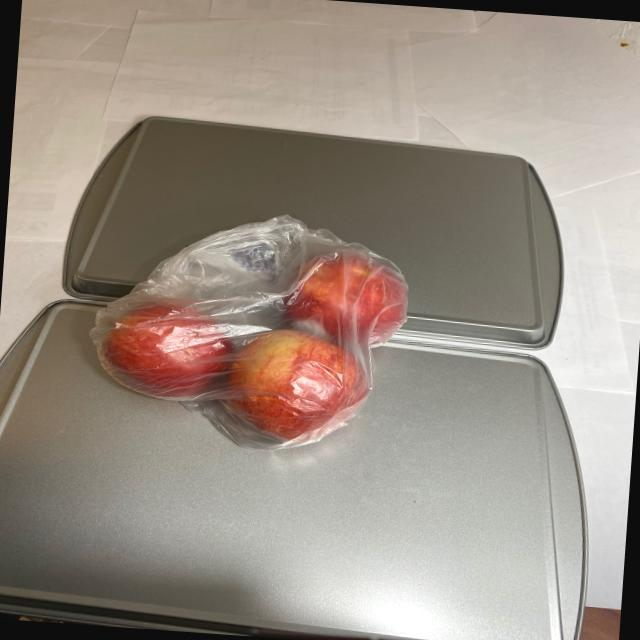apple: (88, 223, 420, 450)
